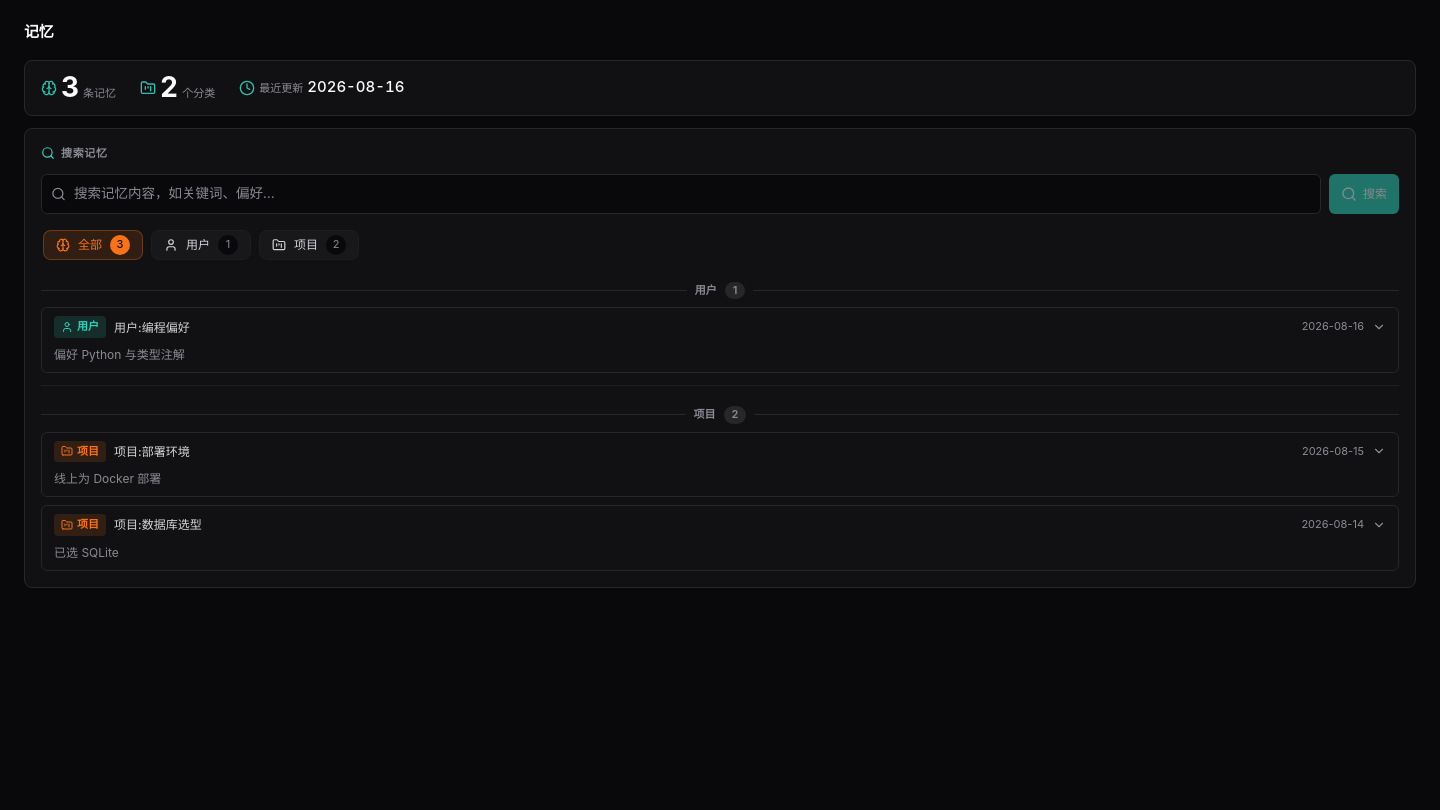
it: MemoryViewer › 点击分组卡片后聚焦该组
Expected: the element with test id "memory-group-filter" is shown, [43,230,359,260]
Click the button with test id "memory-group-filter-card" showing "项目 2": (309, 245) [259,230,359,260]
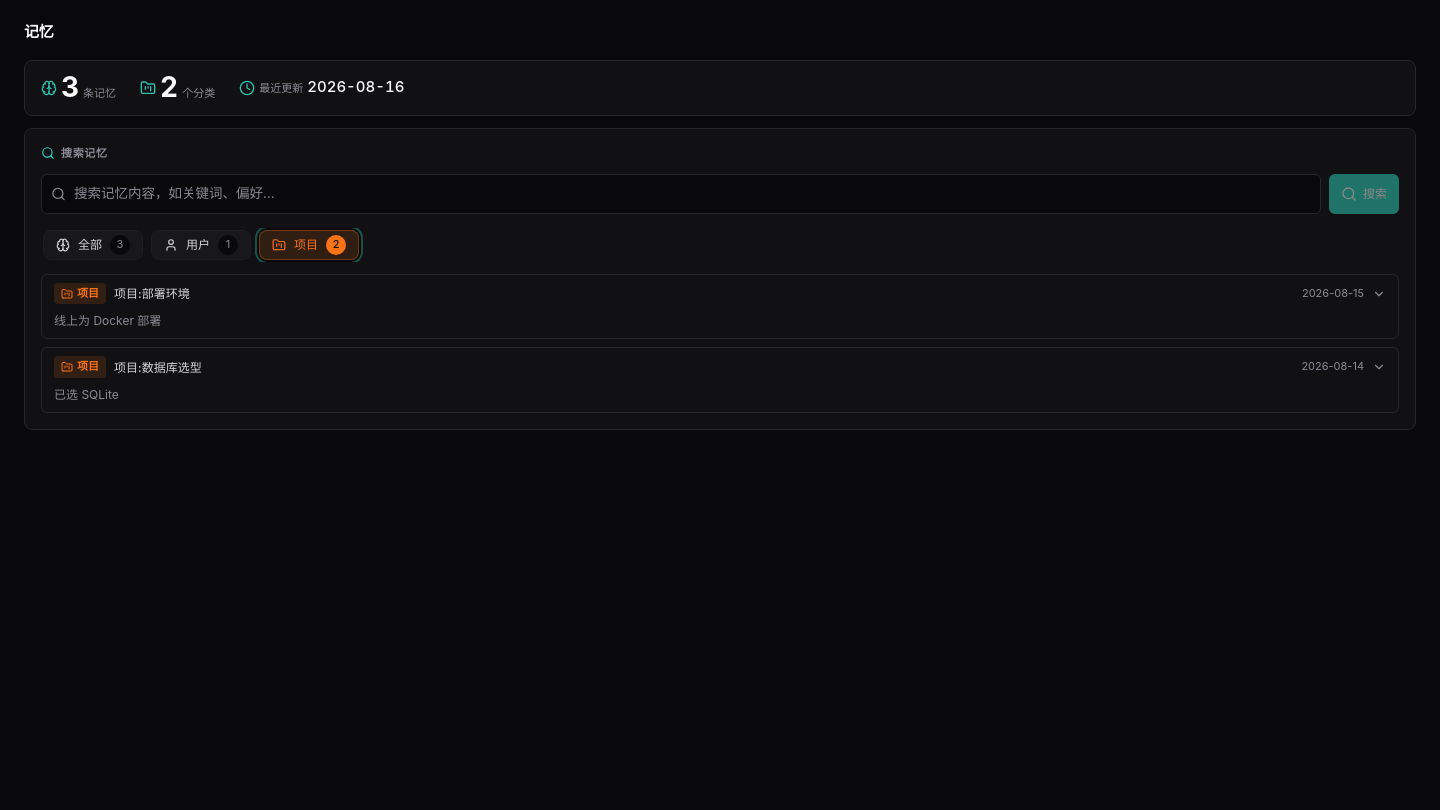
Expected: the element with test id "memory-entry" shows "部署", [54,313,161,328]
Expected: the element with test id "memory-group" is gone
